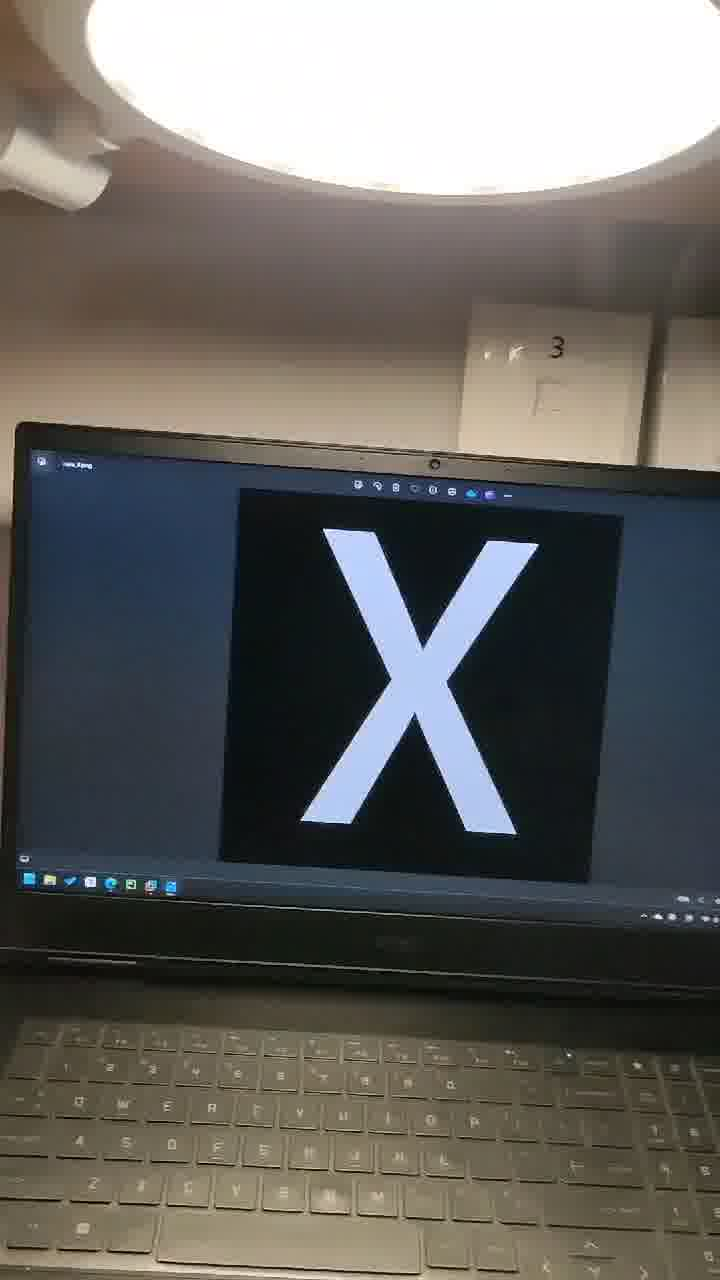X: (252, 475, 607, 915)
